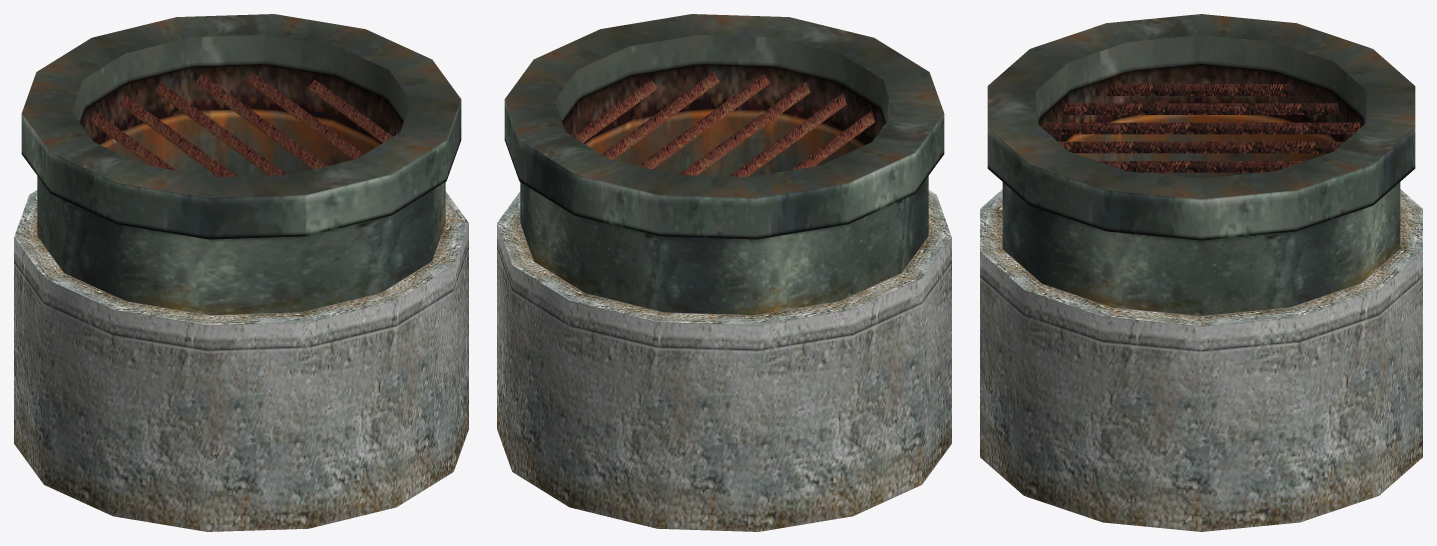
Rendered from sewerpipe_1m.fbx.
The picture shows the model from 3 angles, left to right: view 1: azimuth 30°, elevation 25°; view 2: azimuth 150°, elevation 25°; view 3: azimuth 270°, elevation 25°; orthographic projection.
Visible parts, largest first — view 1: mesh_0; view 2: mesh_0; view 3: mesh_0.
Part boxes in pixels (bbox=[...]): mesh_0: bbox=[14, 14, 468, 531]; mesh_0: bbox=[497, 14, 951, 531]; mesh_0: bbox=[980, 14, 1422, 531].
Bounding box in the file's own units: 100 × 80 × 97.49.
Materials: 1 (1 with a texture image).
